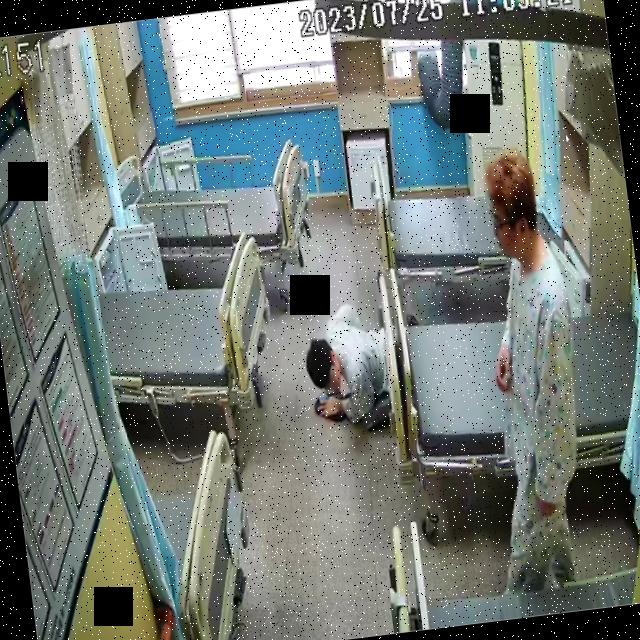bed: (371, 237, 640, 490), (366, 124, 570, 302), (97, 234, 280, 418), (132, 143, 313, 278)
fall: (292, 286, 408, 428)
move: (450, 144, 606, 596)
patient: (451, 140, 605, 592), (294, 284, 414, 430)
